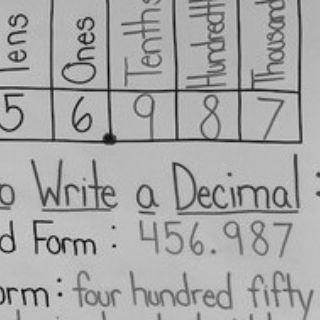.: (209, 247, 219, 254)
4: (137, 218, 161, 256)
5: (1, 91, 29, 134), (162, 219, 185, 256)
6: (68, 94, 95, 134), (187, 221, 205, 256)
7: (254, 94, 285, 143), (271, 219, 295, 259)
8: (199, 92, 223, 139), (251, 219, 268, 258)
9: (131, 94, 159, 139), (222, 219, 243, 256)
